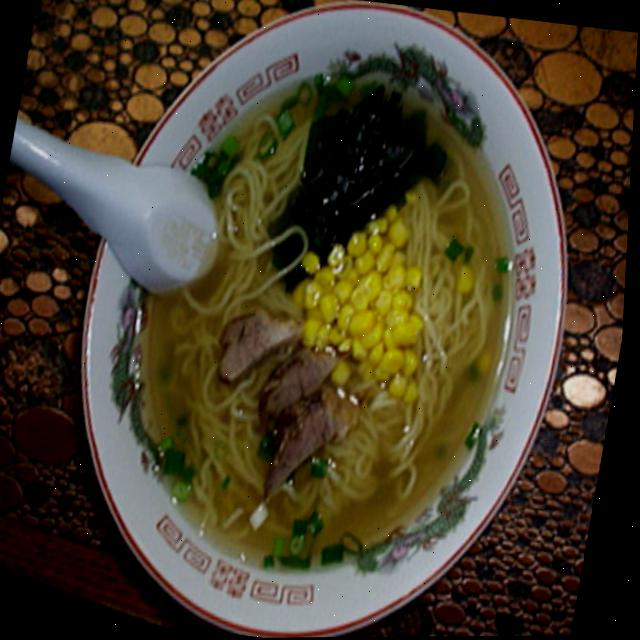面条主食: (28, 0, 625, 640)
